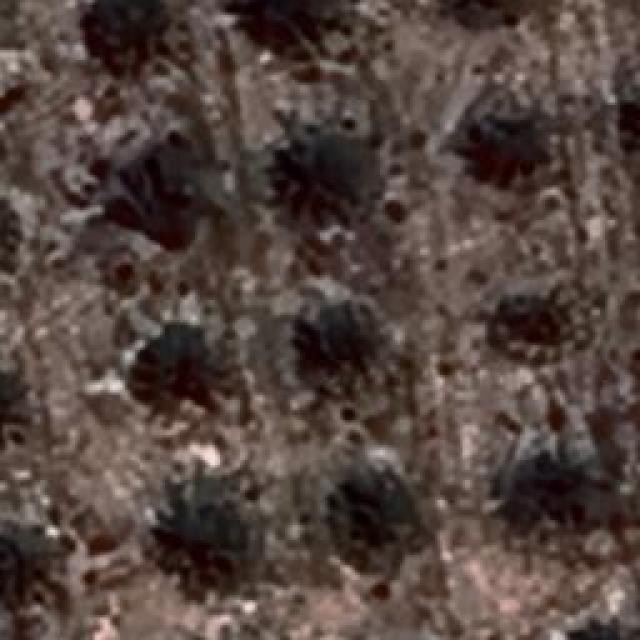PalmTree: (29, 73, 58, 569), (272, 124, 388, 244), (321, 466, 439, 572), (157, 492, 255, 600), (445, 92, 543, 188), (112, 144, 206, 242), (146, 316, 229, 424), (314, 296, 394, 402), (499, 285, 589, 365), (81, 0, 169, 78), (229, 0, 319, 65), (514, 454, 592, 528), (18, 93, 35, 405), (436, 0, 537, 30), (562, 613, 640, 640), (614, 80, 640, 160), (0, 186, 23, 276), (0, 358, 22, 447), (436, 0, 533, 17), (621, 78, 640, 160), (0, 182, 17, 273), (561, 622, 640, 640), (628, 80, 640, 158)
